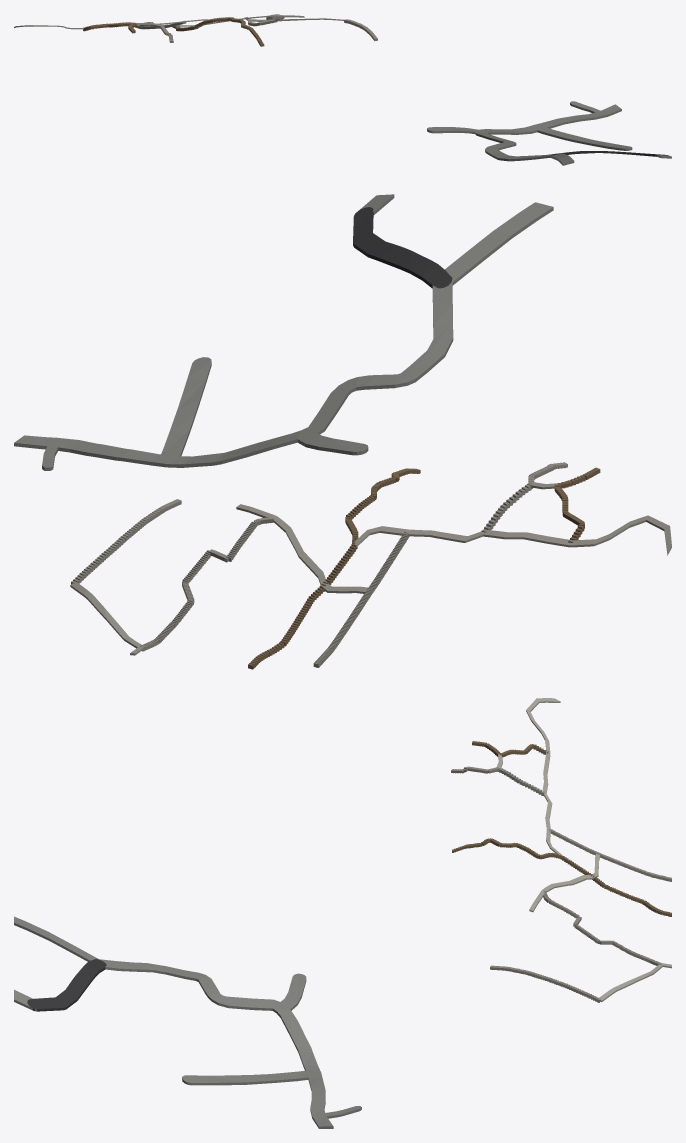
3 views of the same model, one above another, from view 1: azimuth 30°, elevation 25°; view 2: azimuth 150°, elevation 25°; view 3: azimuth 270°, elevation 25° (orthographic). The views are drawn at different scales.
Bounding box in the file's own units: 293 × 76.17 × 292.
